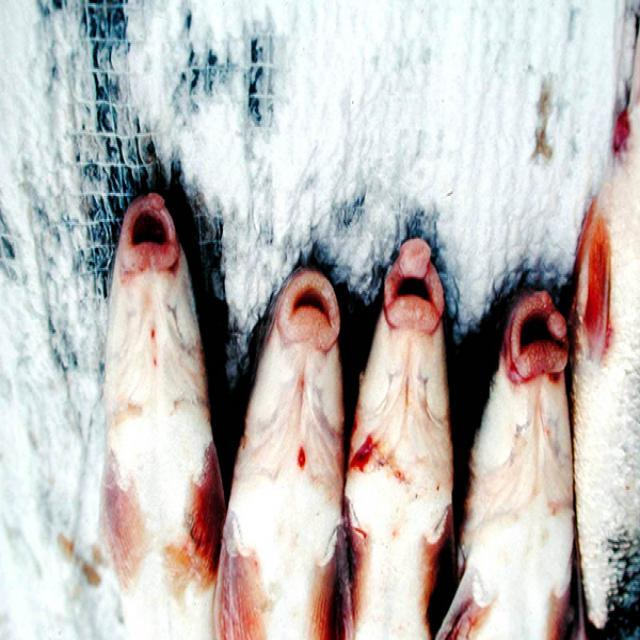EUS Disease: (89, 184, 231, 640), (441, 232, 589, 640), (222, 227, 351, 640), (342, 217, 460, 640), (572, 14, 636, 638)
